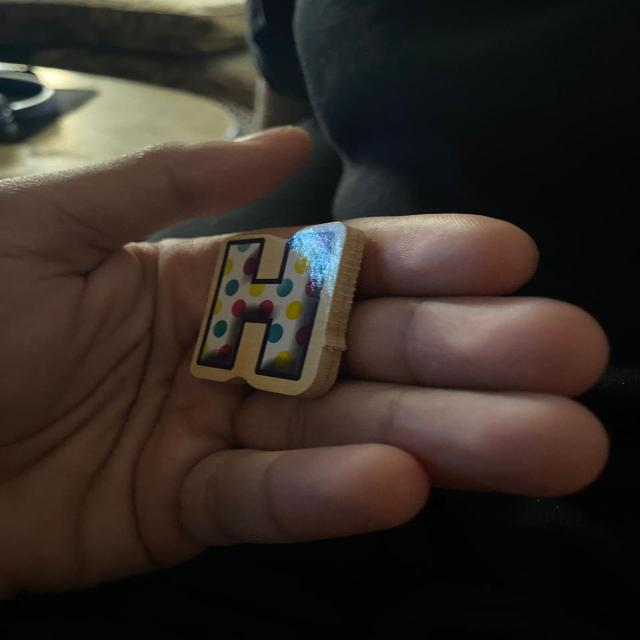H: (191, 222, 364, 397)
